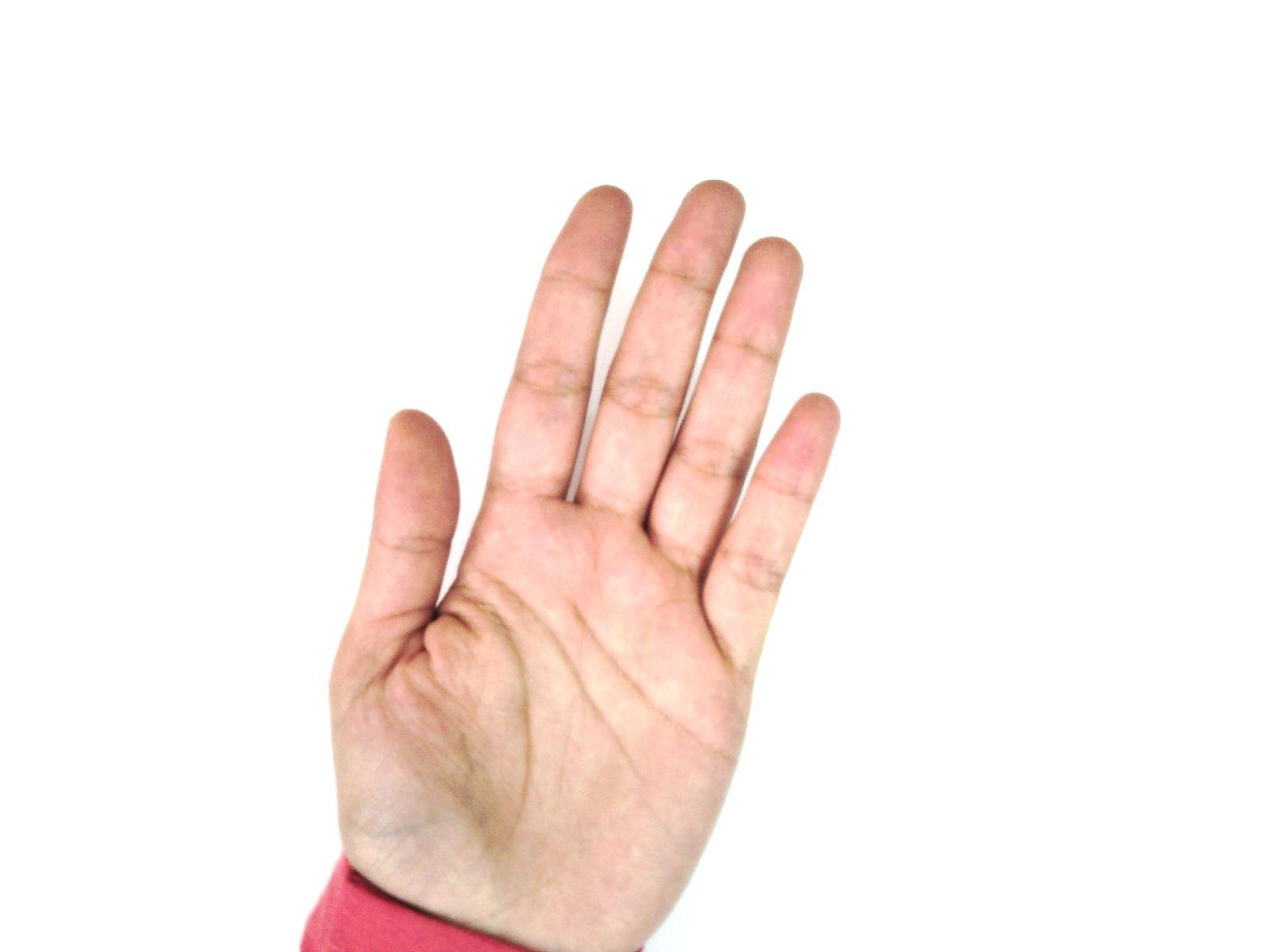open_palm: (324, 178, 844, 951)
